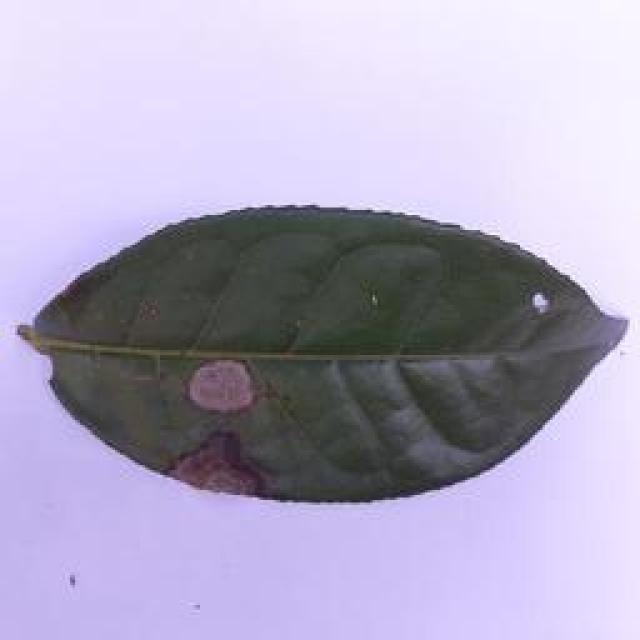Gray Blight: (12, 199, 634, 513)
